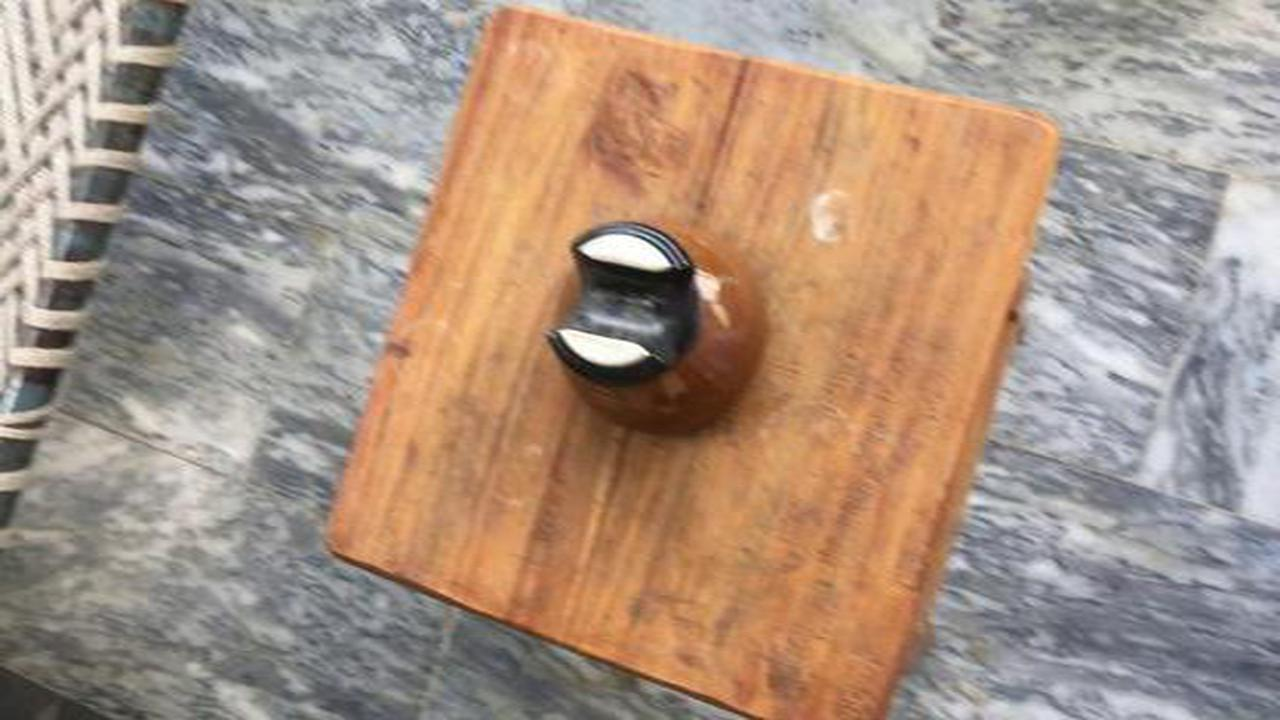insulator_pin: (514, 208, 788, 451)
